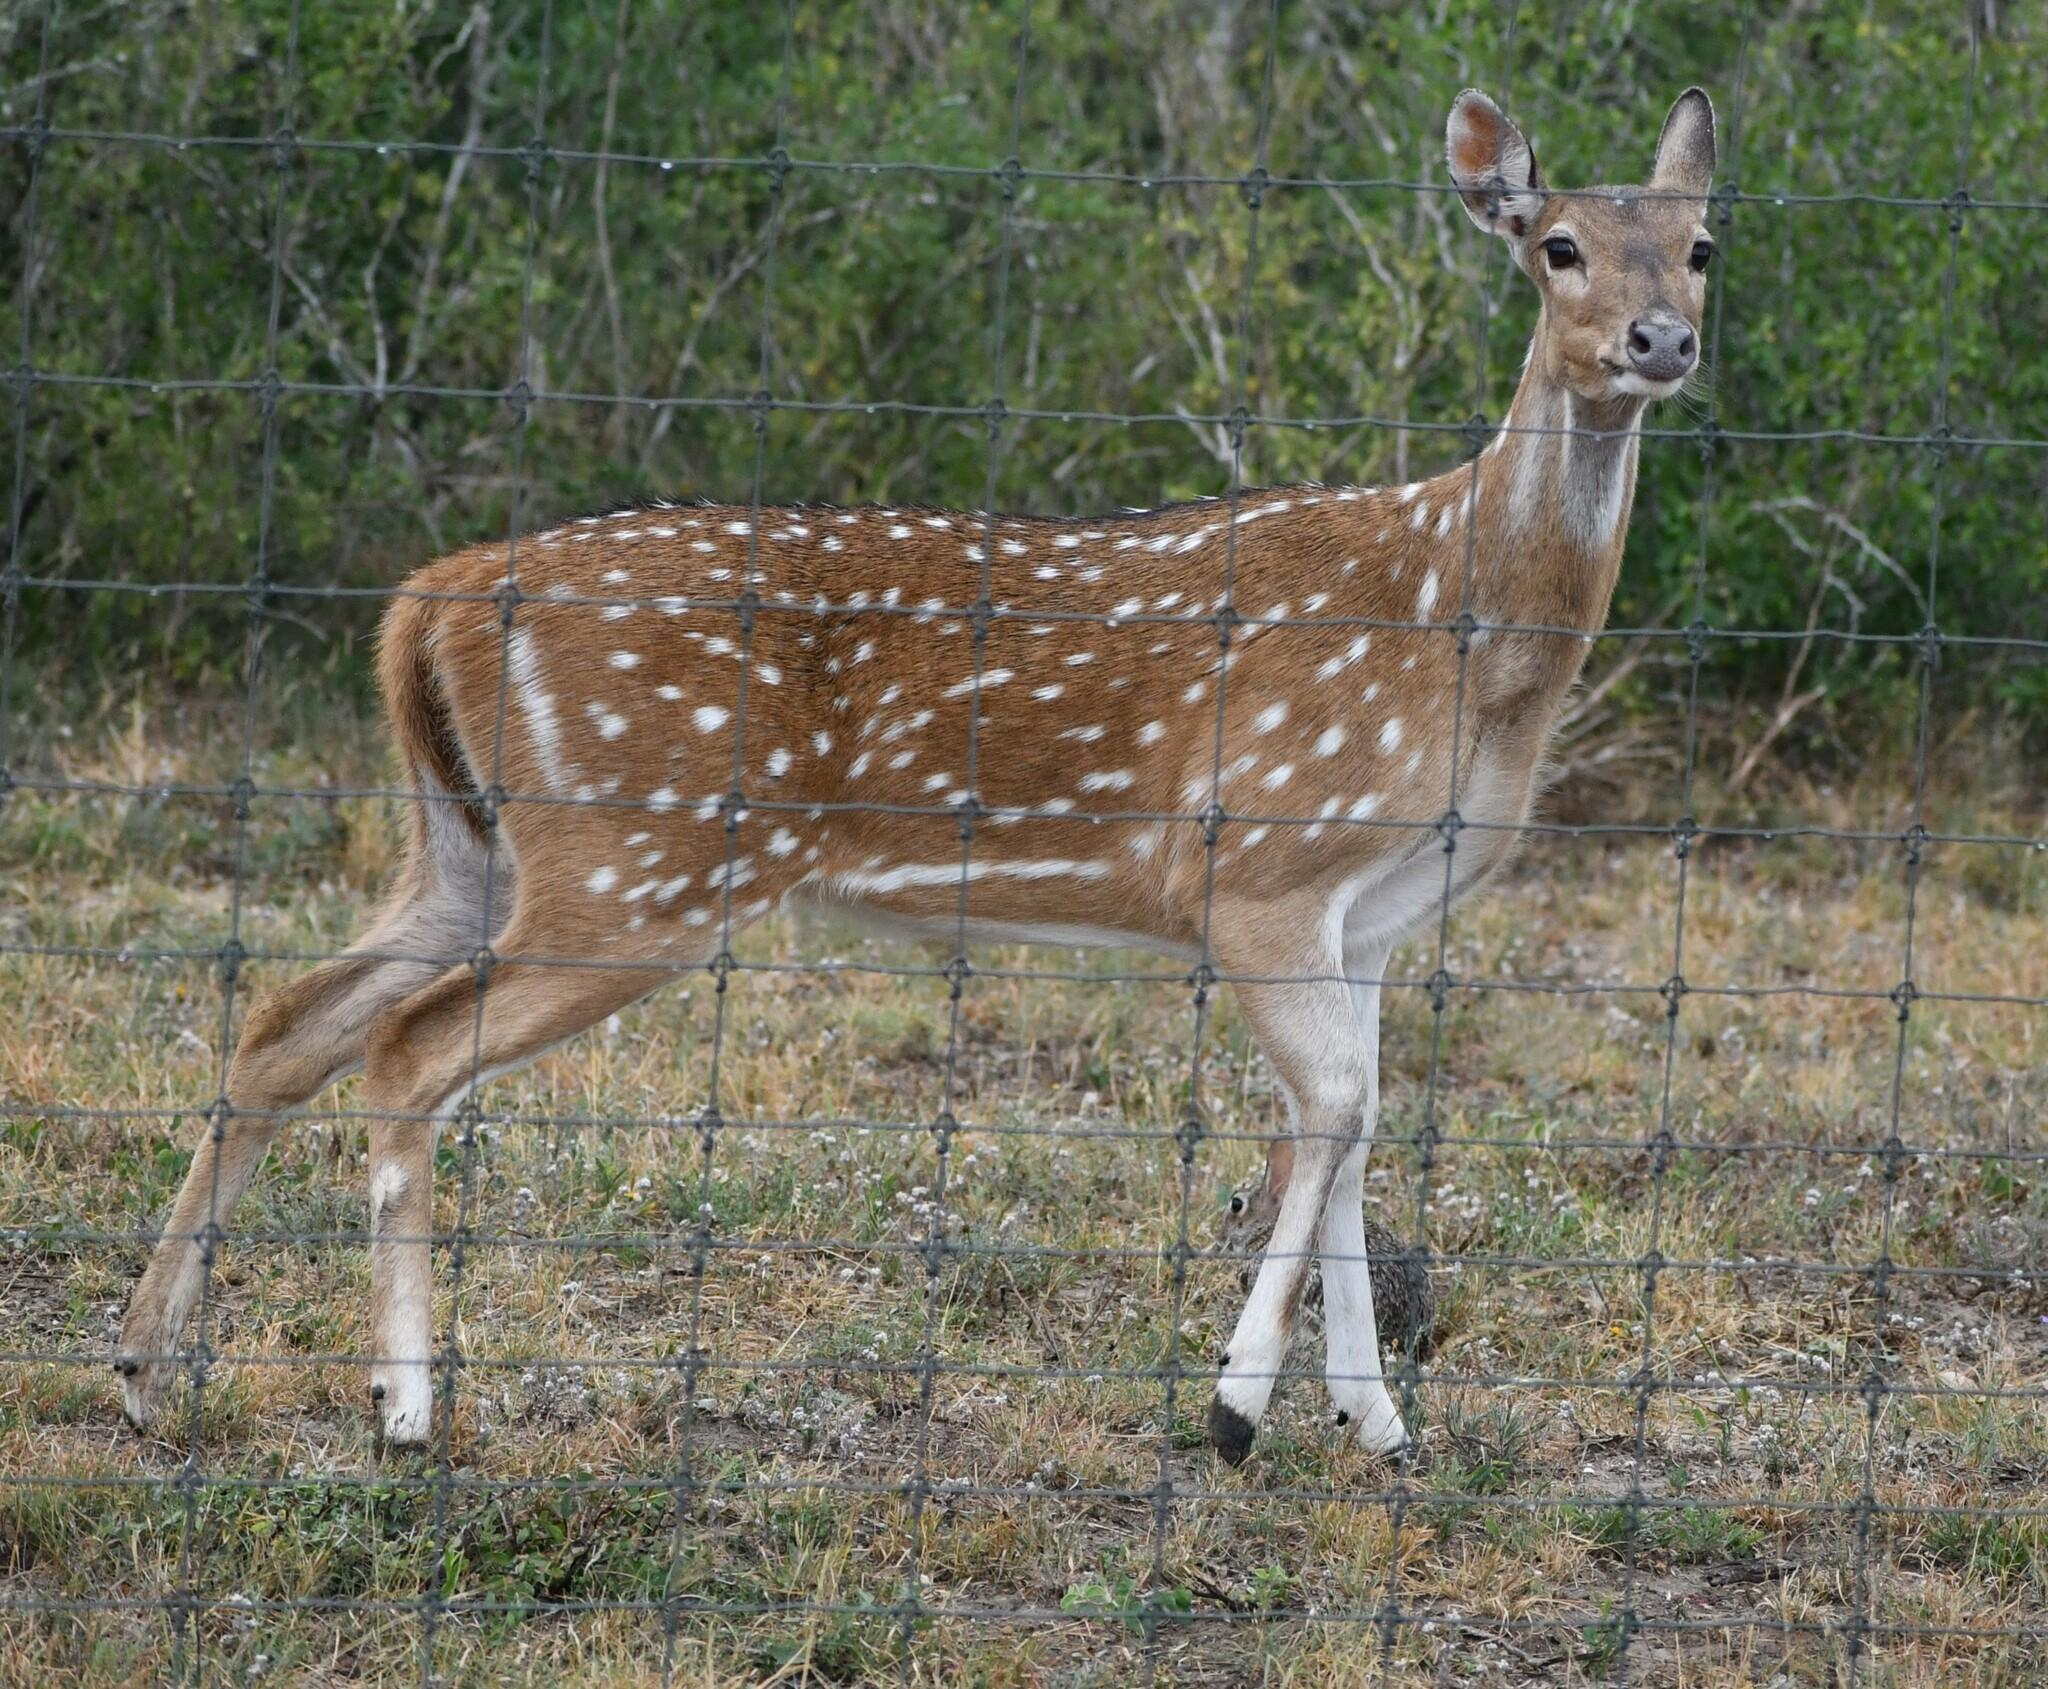Deer: (122, 88, 1715, 1449)
